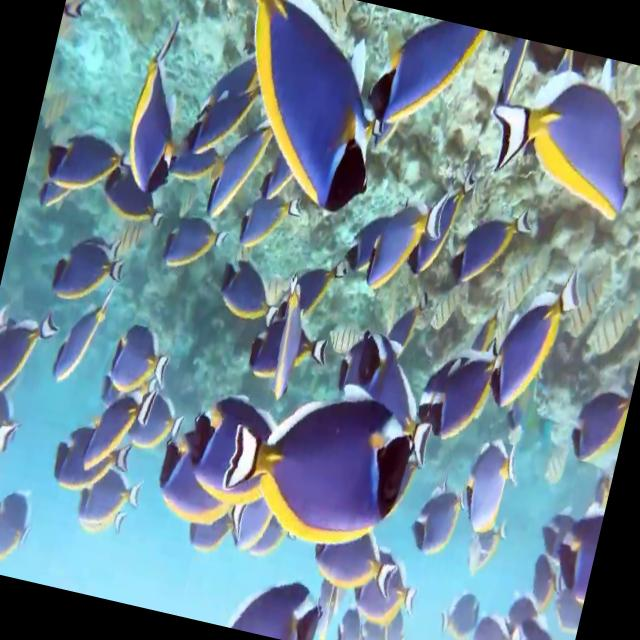fish: (169, 0, 410, 223), (214, 368, 428, 560), (477, 36, 640, 219), (481, 254, 586, 418), (364, 8, 481, 138), (337, 334, 448, 464), (120, 27, 202, 195), (148, 442, 258, 544), (416, 331, 508, 447), (362, 182, 448, 299), (409, 160, 484, 284), (306, 512, 405, 601), (442, 197, 528, 298), (36, 121, 130, 202), (244, 308, 332, 390), (347, 540, 426, 630), (82, 380, 156, 474), (452, 438, 518, 541), (230, 571, 328, 640), (48, 285, 111, 390), (48, 423, 134, 498), (264, 280, 312, 404), (0, 299, 54, 408), (212, 253, 287, 330), (72, 457, 146, 534), (98, 156, 170, 232), (46, 240, 126, 308), (234, 181, 306, 256), (564, 390, 630, 470), (408, 477, 472, 557), (104, 321, 174, 393), (157, 213, 228, 280), (431, 580, 480, 640), (0, 490, 33, 568), (463, 618, 531, 640)
